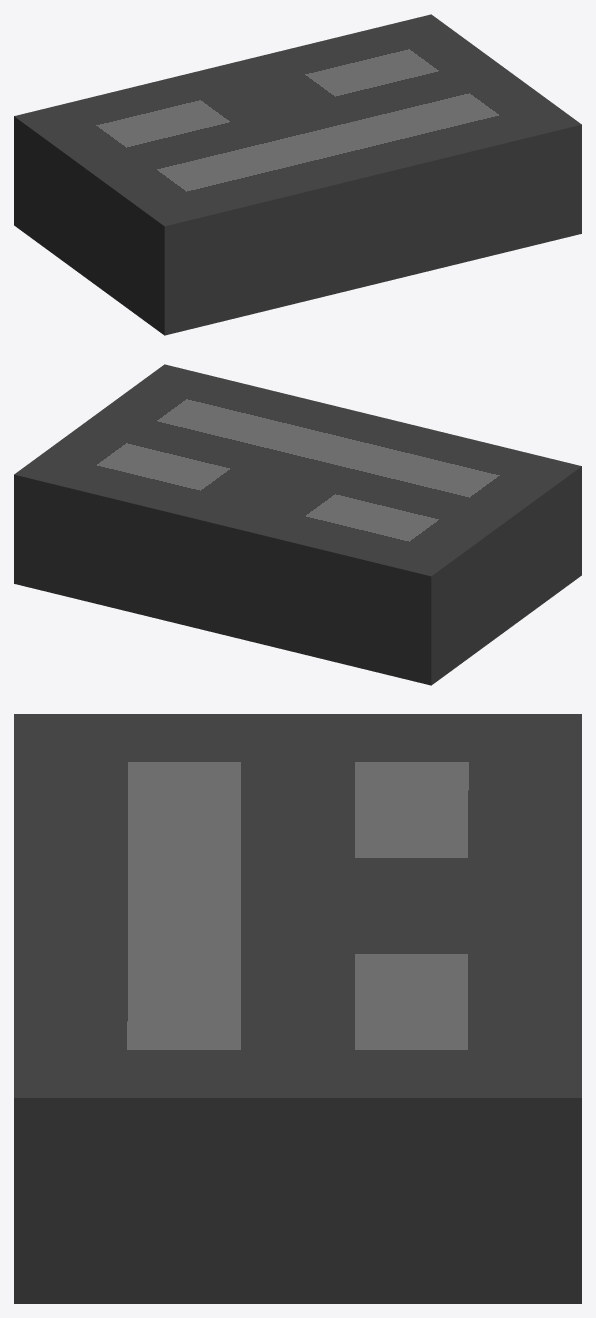
File: obj_grave4.dae
3 renders of one model, top to bottom at view 1: azimuth 30°, elevation 25°; view 2: azimuth 150°, elevation 25°; view 3: azimuth 270°, elevation 25°, orthographic. The views are drawn at different scales.
Visible parts, largest first — view 1: obj_grave4; view 2: obj_grave4; view 3: obj_grave4.
Boxes of the visible parts, left/top/right/bottom form: obj_grave4: left=14, top=14, right=581, bottom=335; obj_grave4: left=14, top=364, right=581, bottom=685; obj_grave4: left=14, top=714, right=581, bottom=1303.
Size of the model in its own units: 0.8 by 0.5 by 0.2.
